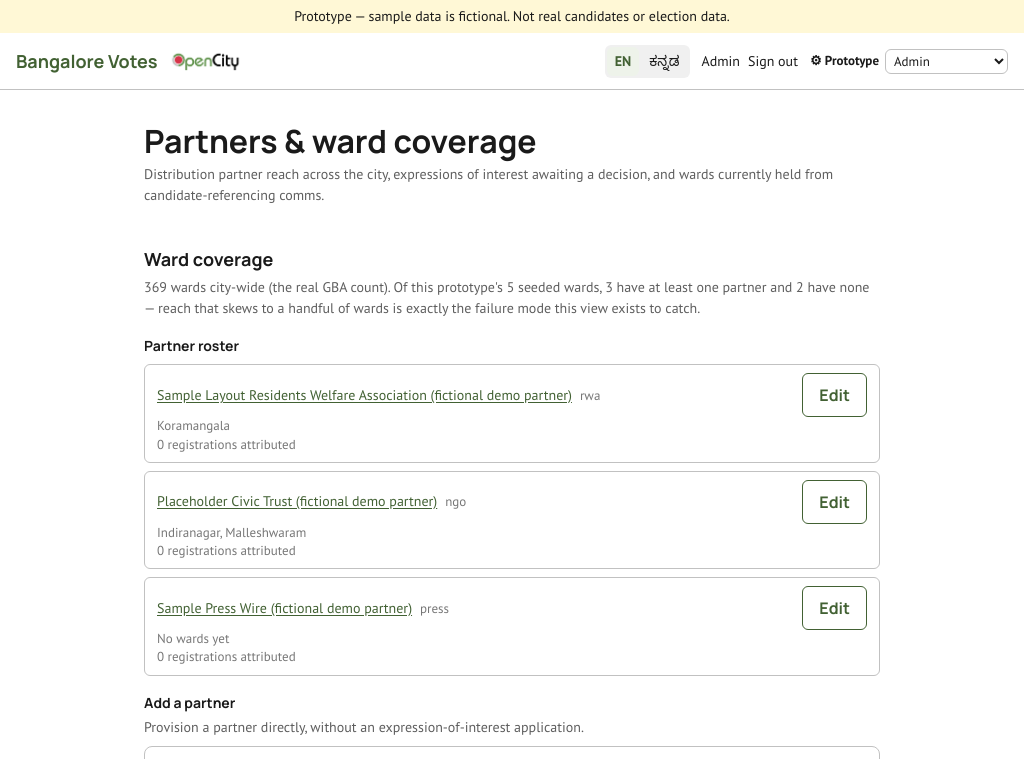
Test: admin edits an existing partner's name/kind/wards — the slug stays the same, so its kit link never breaks
This screenshot has width=1024, height=759.
Step 1. Click the button "Edit" in the row of "rwa" → point(835, 395), box top-left (802, 373), bottom-right (867, 417)
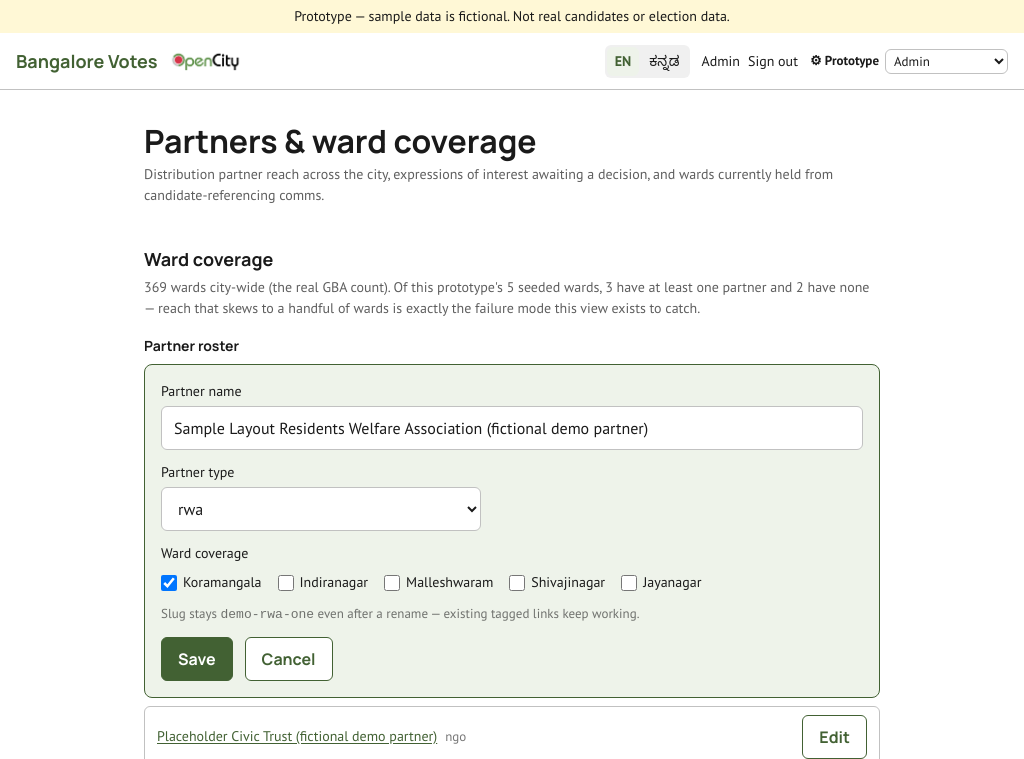
Step 2. Replace the text in the field labelled "Partner name" with "Renamed Layout Association (fictional demo partner)" → point(512, 428), box top-left (161, 406), bottom-right (863, 450)
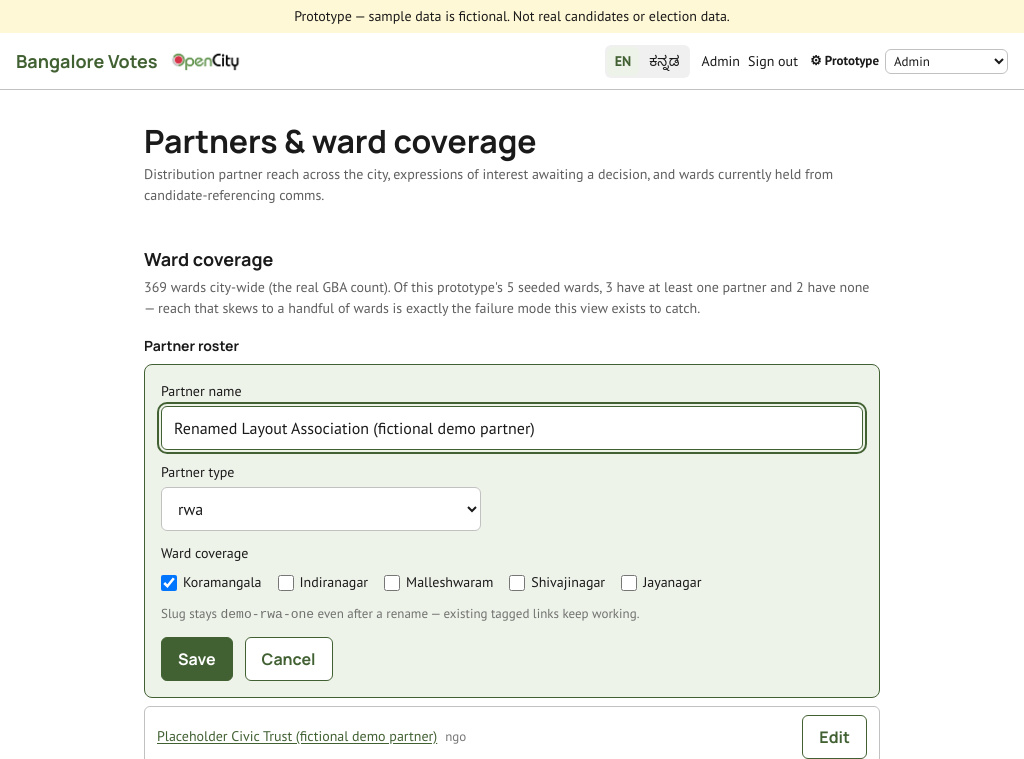
Step 3. Select "other" in the dropdown labelled "Partner type" → point(321, 509), box top-left (161, 487), bottom-right (481, 531)
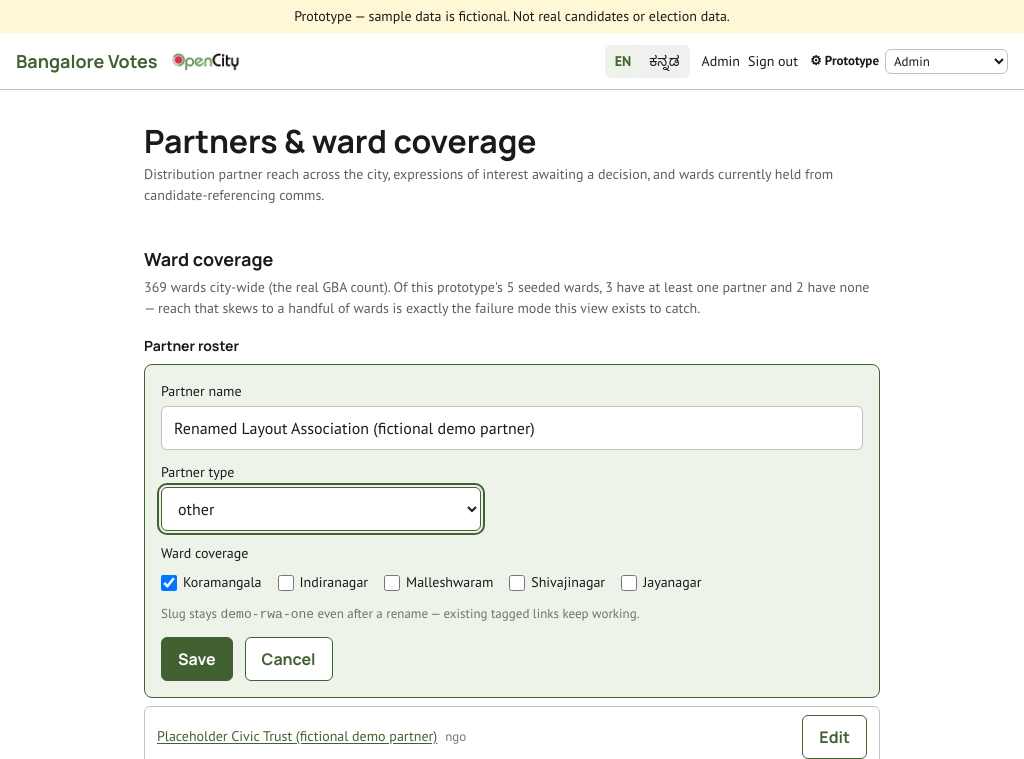
Step 4. Click the button "Save" → point(197, 659), box top-left (161, 637), bottom-right (233, 681)
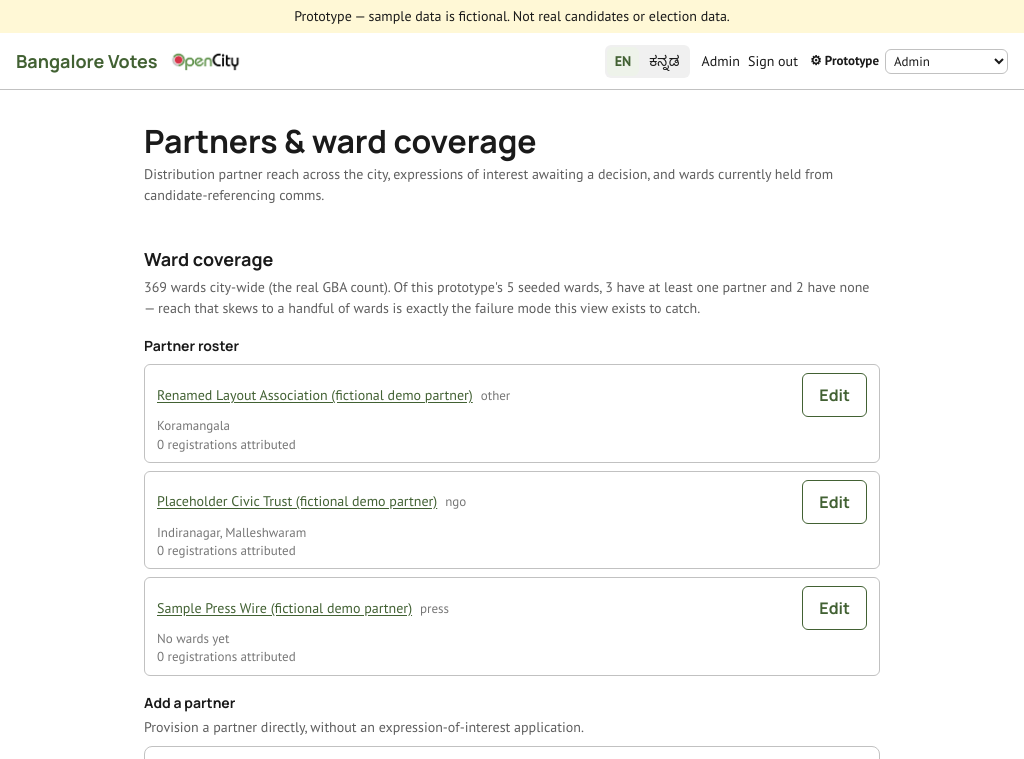
Expected: the link "Renamed Layout Association (fictional demo partner)" reads "Renamed Layout Association (fictional demo partner)", top-left (157, 386), bottom-right (473, 404)
Expected: the text "other" is shown, top-left (481, 387), bottom-right (510, 404)
